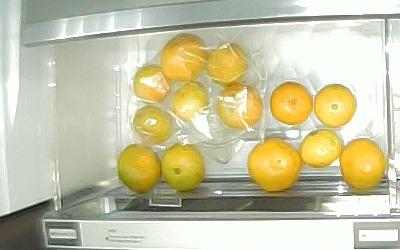tangerine: (249, 138, 301, 190), (340, 138, 386, 192), (117, 144, 161, 193), (161, 145, 205, 190), (314, 84, 357, 127), (271, 82, 313, 125), (301, 130, 343, 166)
tangerine_vinyl: (161, 32, 206, 82), (217, 84, 264, 129), (206, 41, 247, 85), (133, 105, 174, 144), (133, 65, 172, 100), (173, 84, 210, 119)
